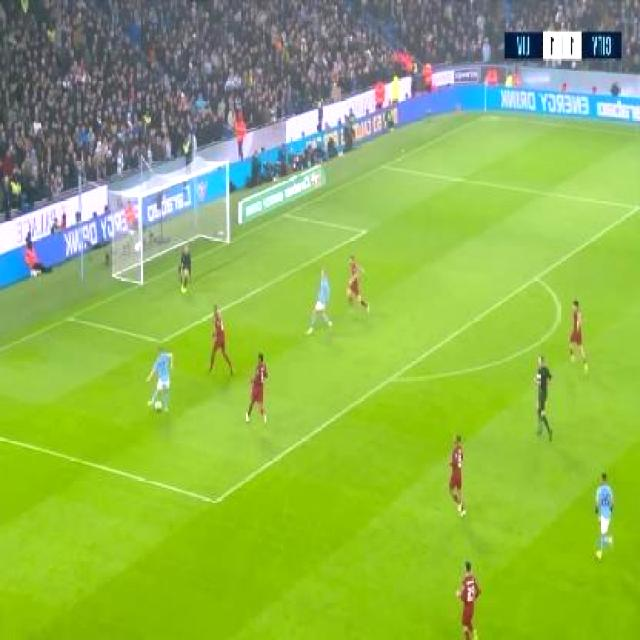bigarea_bottom_inner: (205, 484, 228, 516)
bigarea_top_inner: (629, 196, 640, 218)
bigarea_top_outter: (376, 155, 392, 174)
bottom_arc_area_intersection: (382, 365, 402, 389)
corner: (478, 109, 497, 123)
smallarea_bottom_inner: (152, 324, 172, 354)
smallarea_bottom_outter: (62, 304, 80, 328)
smallarea_top_inner: (357, 220, 375, 242)
smallarea_top_outter: (278, 205, 294, 223)
top_arc_area_intersection: (528, 266, 548, 288)
